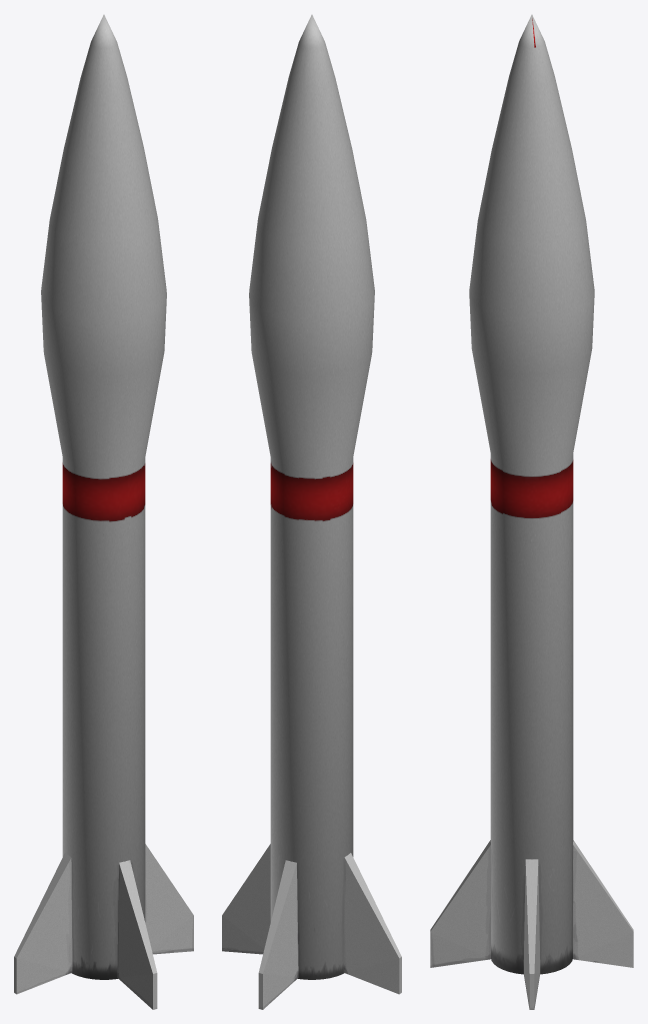
File: missile.glb
3 views of the same model, side by side, from view 1: azimuth 30°, elevation 25°; view 2: azimuth 150°, elevation 25°; view 3: azimuth 270°, elevation 25° (orthographic).
Parts seen in each view (by area): view 1: Cone; view 2: Cone; view 3: Cone.
Boxes of the visible parts, x1,y1,x2,y2 form: Cone: (14, 14, 193, 1009); Cone: (222, 14, 401, 1009); Cone: (430, 14, 633, 1009).
Size of the model in its own units: 0.6483 by 3.35 by 0.6483.
Materials: 1 (1 with a texture image).
